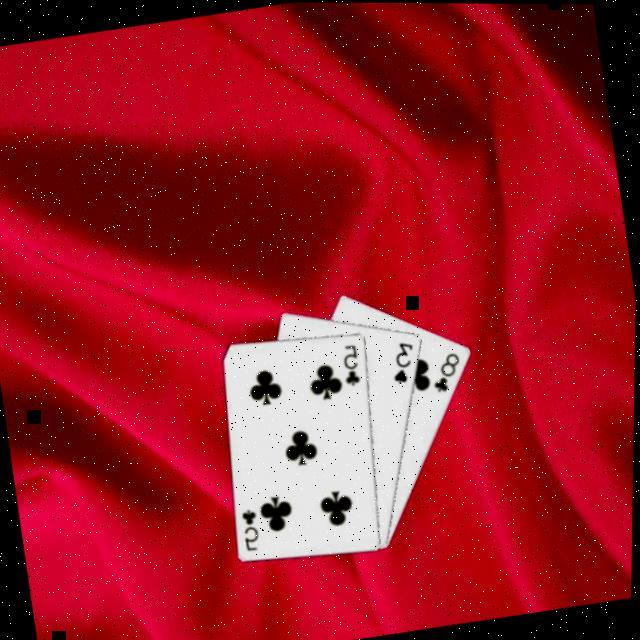3S: (386, 339, 423, 389)
5C: (238, 505, 267, 556), (337, 341, 367, 390)
8C: (427, 349, 468, 398)
